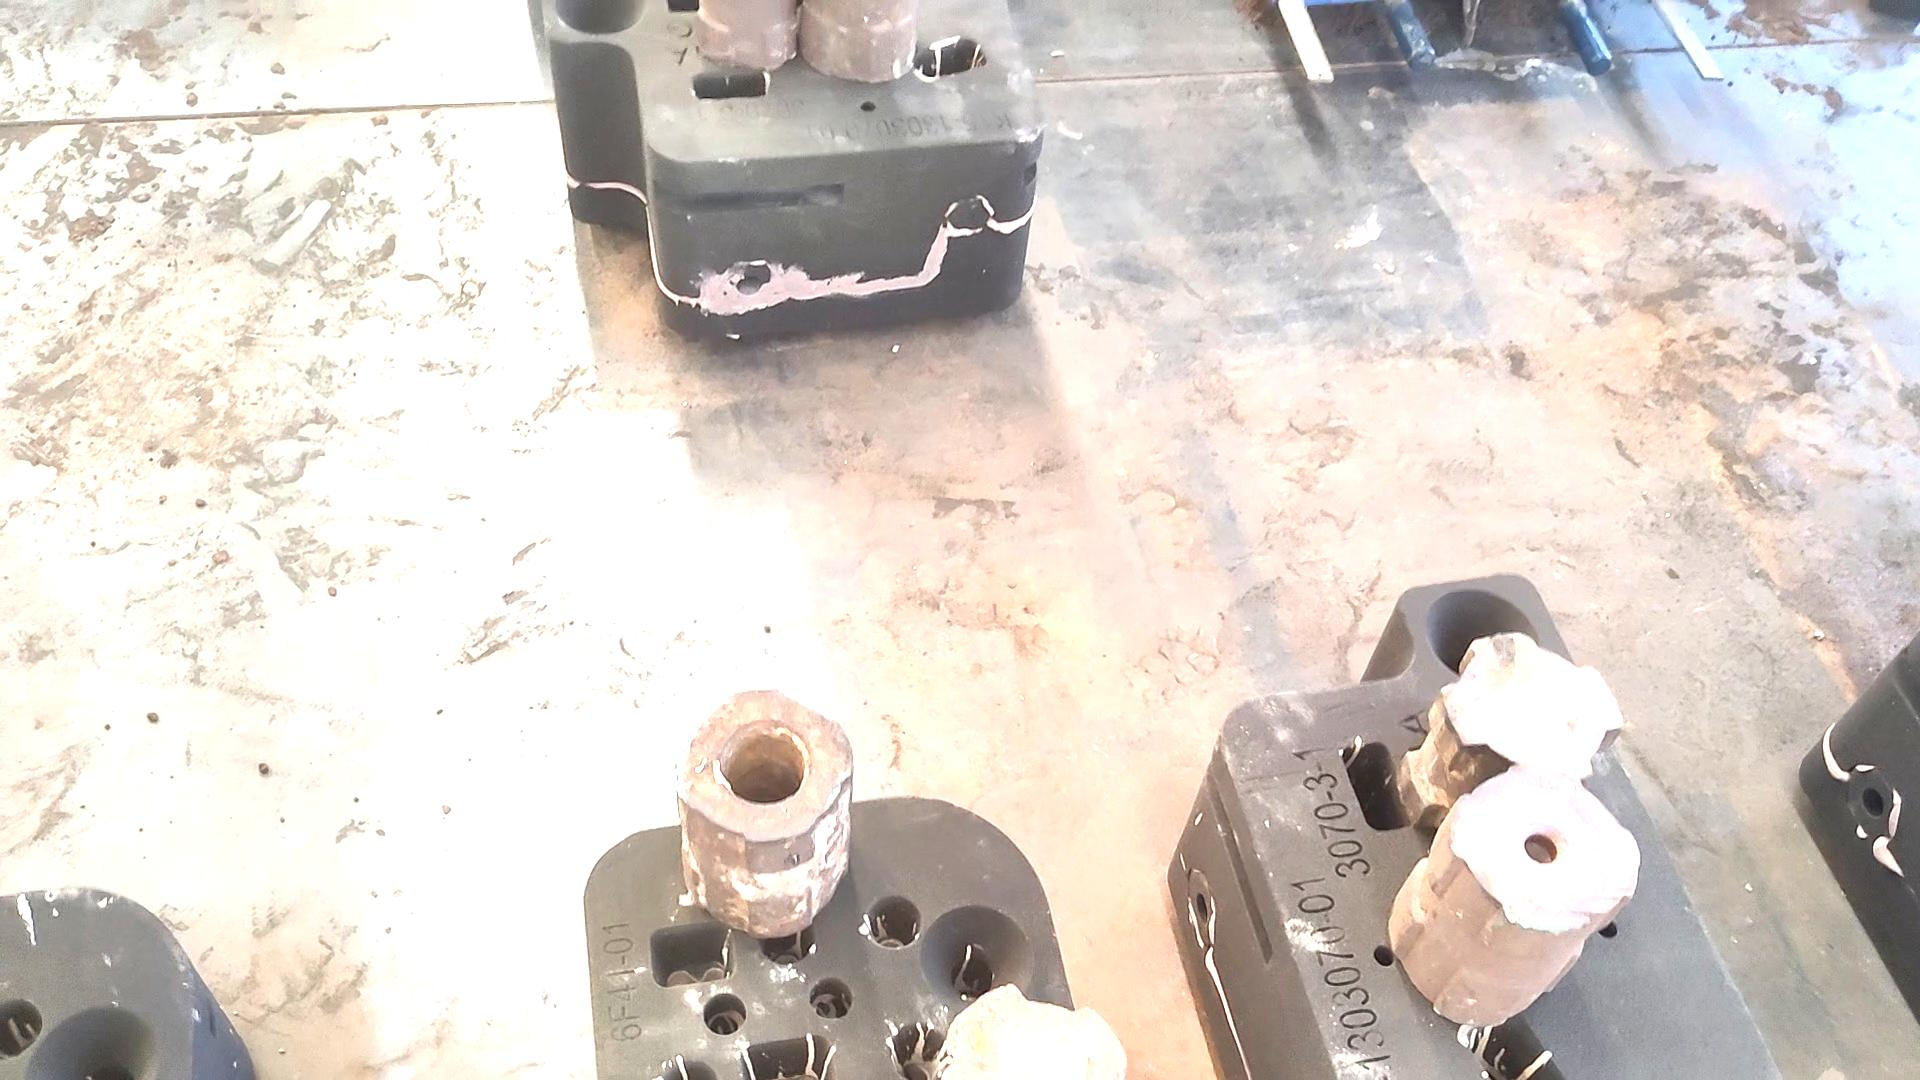pouring hole: (919, 902, 1034, 1011), (1425, 591, 1543, 680), (22, 1007, 157, 1080), (553, 1, 647, 37)
